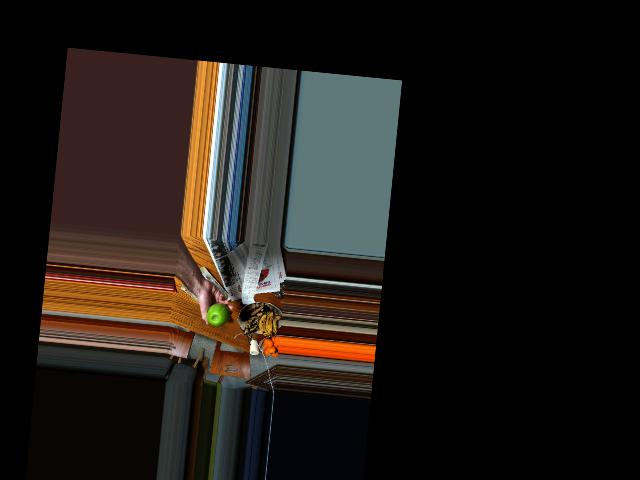apple: (205, 302, 231, 327)
